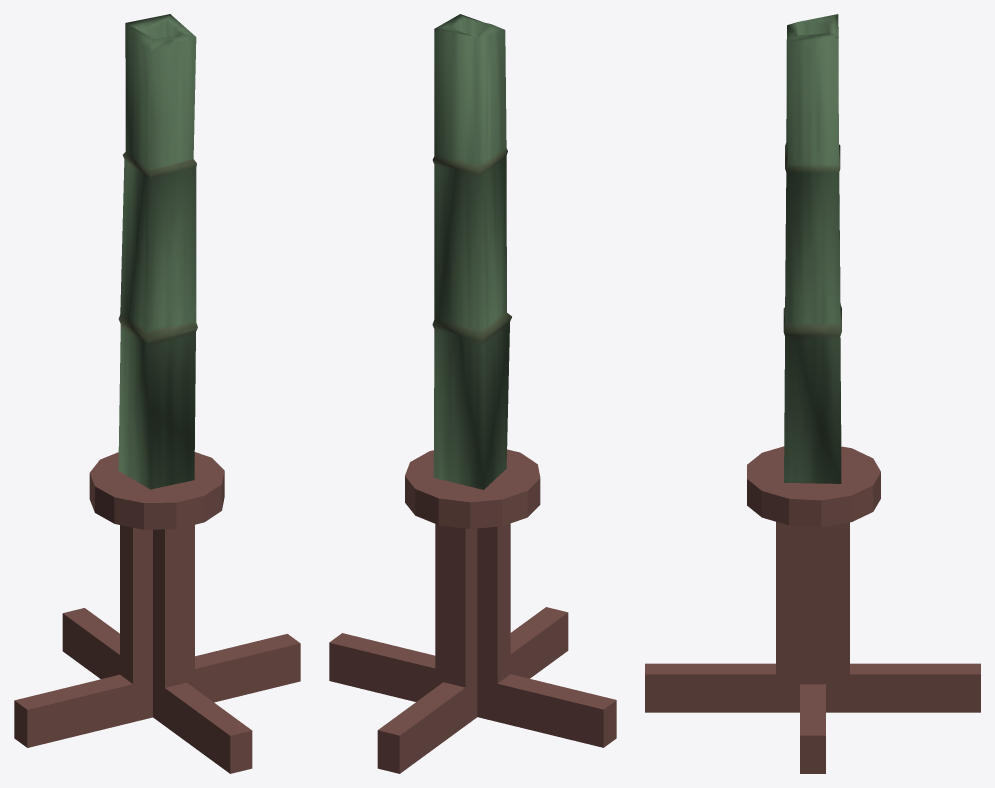
Rendered from bamboo_mid_1.glb.
3 views of the same model, side by side, from view 1: azimuth 30°, elevation 25°; view 2: azimuth 150°, elevation 25°; view 3: azimuth 270°, elevation 25° (orthographic).
Parts seen in each view (by area): view 1: Stand.003, Obstacle; view 2: Stand.003, Obstacle; view 3: Stand.003, Obstacle.
Part boxes in pixels (<box>): Stand.003: <box>14,452,300,773</box>; Obstacle: <box>118,14,197,489</box>; Stand.003: <box>329,449,616,773</box>; Obstacle: <box>432,14,511,489</box>; Stand.003: <box>645,446,980,773</box>; Obstacle: <box>783,14,841,483</box>.
Size of the model in its own units: 1.09 by 2.61 by 1.16.
Materials: 2 (1 with a texture image).
